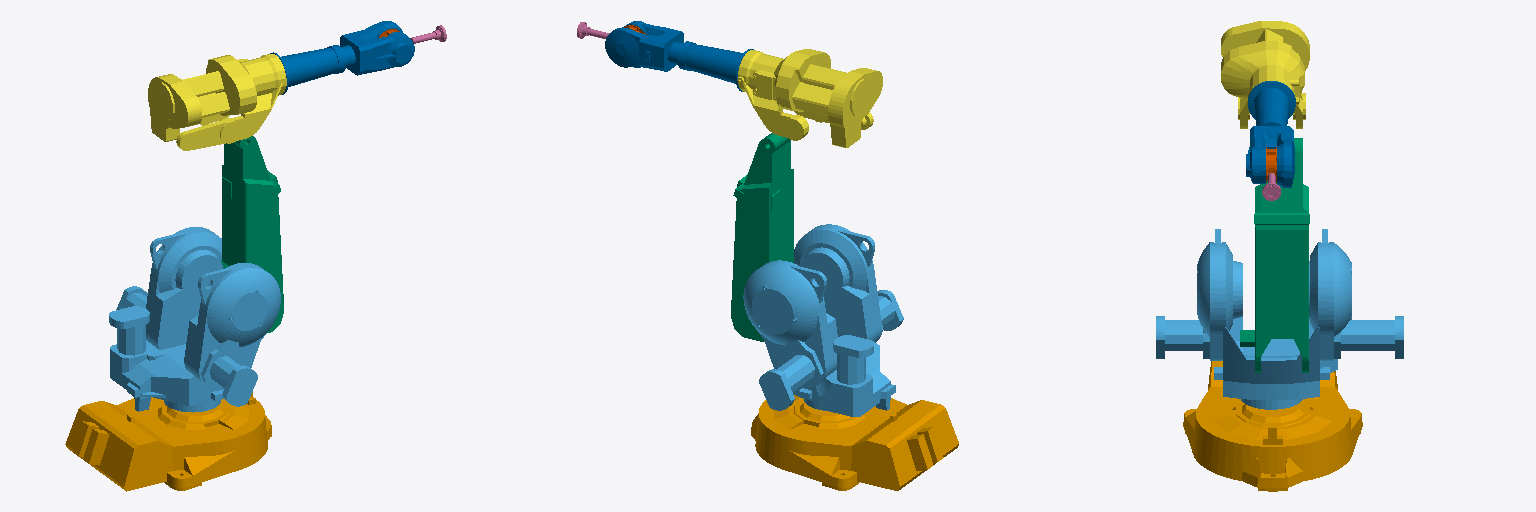
URDF robot description (ABB-IRB2400):
<?xml version="1.0"?>
<robot name="ABB-IRB2400">
  <link name="base_link">
    <visual>
      <origin xyz="0.014336 0.003980 -0.000000" rpy="0 0 0"/>
      <geometry>
        <mesh filename="stl_files/base_link.stl" scale="0.001 0.001 0.001"/>
      </geometry>
    </visual>
  </link>
  <link name="link_1">
    <visual>
      <origin xyz="0.000000 0.000000 0.028000" rpy="0 0 0"/>
      <geometry>
        <mesh filename="stl_files/link_1.stl" scale="0.001 0.001 0.001"/>
      </geometry>
    </visual>
  </link>
  <link name="link_2">
    <visual>
      <origin xyz="0.115063 0.034362 -0.096711" rpy="0 0 0"/>
      <geometry>
        <mesh filename="stl_files/link_2.stl" scale="0.001 0.001 0.001"/>
      </geometry>
    </visual>
  </link>
  <link name="link_3">
    <visual>
      <geometry>
        <mesh filename="stl_files/link_3.stl" scale="0.001 0.001 0.001"/>
      </geometry>
    </visual>
  </link>
  <link name="link_4">
    <visual>
      <geometry>
        <mesh filename="stl_files/link_4.stl" scale="0.001 0.001 0.001"/>
      </geometry>
    </visual>
  </link>
  <link name="link_5">
    <visual>
      <geometry>
        <mesh filename="stl_files/link_5.stl" scale="0.001 0.001 0.001"/>
      </geometry>
    </visual>
  </link>
  <link name="link_6">
    <visual>
      <origin xyz="0.131000 0.000000 0.000000" rpy="0 0 0"/>
      <geometry>
        <mesh filename="stl_files/link_6.stl" scale="0.001 0.001 0.001"/>
      </geometry>
    </visual>
  </link>
  <joint name="joint_1" type="revolute">
    <parent link="base_link"/>
    <child link="link_1"/>
    <origin xyz="0.000000 0.000000 0.000000" rpy="0 0 0"/>
    <axis xyz="0.000000 0.000000 1.000000"/>
    <limit lower="-3.1416" upper="3.1416" effort="100" velocity="1"/>
  </joint>
  <joint name="joint_2" type="revolute">
    <parent link="link_1"/>
    <child link="link_2"/>
    <origin xyz="0.100000 0.000000 0.615000" rpy="0 0 0"/>
    <axis xyz="0.000000 1.000000 0.000000"/>
    <limit lower="-1.7453" upper="1.9199" effort="100" velocity="1"/>
  </joint>
  <joint name="joint_3" type="revolute">
    <parent link="link_2"/>
    <child link="link_3"/>
    <origin xyz="0.000000 0.000000 0.705000" rpy="0 0 0"/>
    <axis xyz="0.000000 1.000000 0.000000"/>
    <limit lower="-1.0472" upper="1.1345" effort="100" velocity="1"/>
  </joint>
  <joint name="joint_4" type="revolute">
    <parent link="link_3"/>
    <child link="link_4"/>
    <origin xyz="0.258000 0.000000 0.135000" rpy="0 0 0"/>
    <axis xyz="1.000000 0.000000 0.000000"/>
    <limit lower="-3.4907" upper="3.4907" effort="100" velocity="1"/>
  </joint>
  <joint name="joint_5" type="revolute">
    <parent link="link_4"/>
    <child link="link_5"/>
    <origin xyz="0.497000 0.000000 0.000000" rpy="0 0 0"/>
    <axis xyz="0.000000 1.000000 0.000000"/>
    <limit lower="-2.0944" upper="2.0944" effort="100" velocity="1"/>
  </joint>
  <joint name="joint_6" type="revolute">
    <parent link="link_5"/>
    <child link="link_6"/>
    <origin xyz="0.085000 0.000000 0.000000" rpy="0 0 0"/>
    <axis xyz="1.000000 0.000000 0.000000"/>
    <limit lower="-6.9813" upper="6.9813" effort="100" velocity="1"/>
  </joint>
</robot>

--- Facts derived from the render (not from the file) ---
3 views of the same robot in one strip: view 1: azimuth 30°, elevation 25°; view 2: azimuth 150°, elevation 25°; view 3: azimuth 270°, elevation 25° (orthographic).
Robot: ABB-IRB2400 — 7 links, 6 joints (6 revolute); root link base_link; default pose: all joints at 0.
Links seen in each view (by area): view 1: link_1, base_link, link_3, link_2, link_4; view 2: link_1, base_link, link_3, link_2, link_4; view 3: link_1, base_link, link_2, link_3, link_4.
Link boxes in pixels (box(x1,y1,x2,y2)): link_1: box(109, 227, 280, 412); base_link: box(65, 392, 271, 491); link_3: box(148, 54, 286, 150); link_2: box(221, 136, 283, 332); link_4: box(270, 21, 414, 94); link_1: box(743, 224, 903, 416); base_link: box(751, 395, 958, 490); link_3: box(737, 49, 882, 147); link_2: box(731, 133, 793, 341); link_4: box(605, 21, 753, 91); link_1: box(1156, 229, 1403, 409); base_link: box(1183, 361, 1362, 491); link_2: box(1240, 138, 1309, 372); link_3: box(1221, 21, 1309, 128); link_4: box(1246, 81, 1295, 187).
Size in the robot's own frame: 1.53 by 0.833 by 1.56 metres.
Meshes: 7 distinct files referenced, 7 mesh visuals loaded (7 binary STL).
